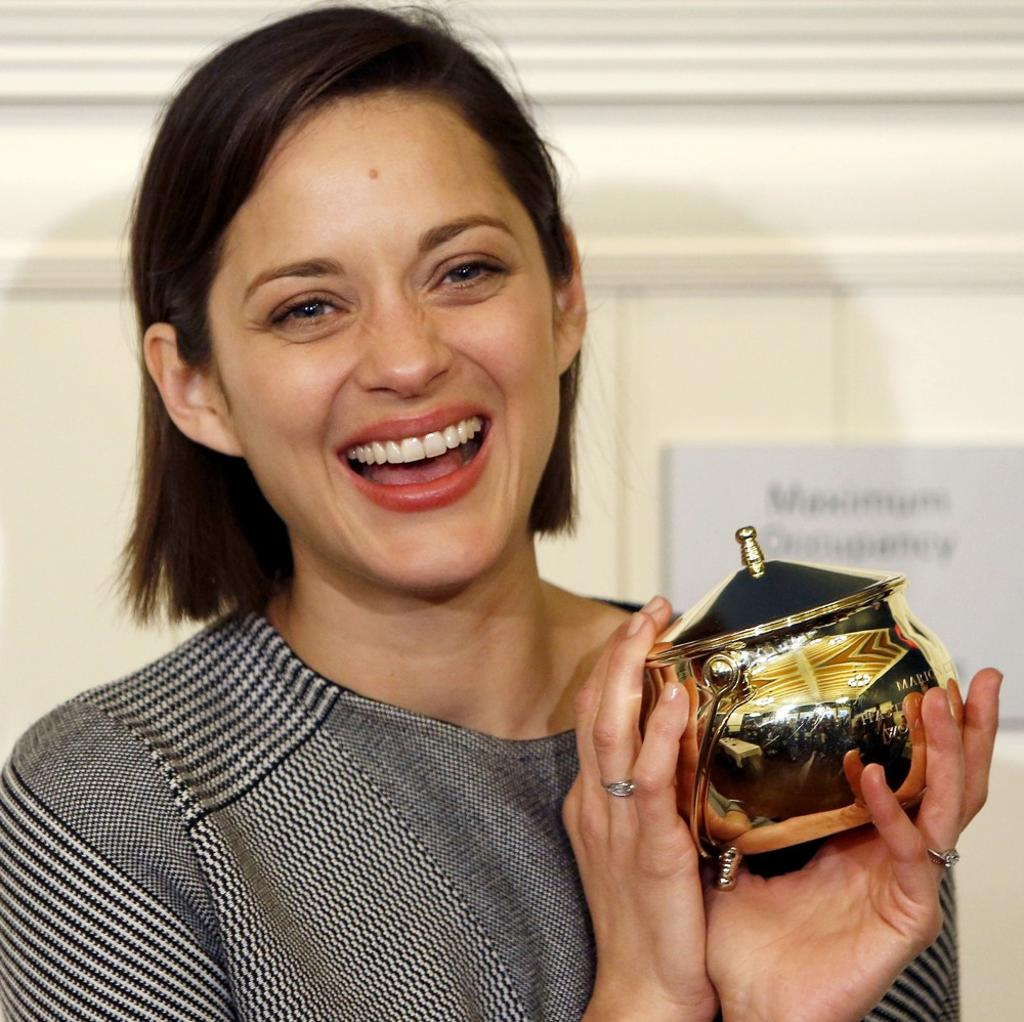face: (204, 94, 562, 590)
